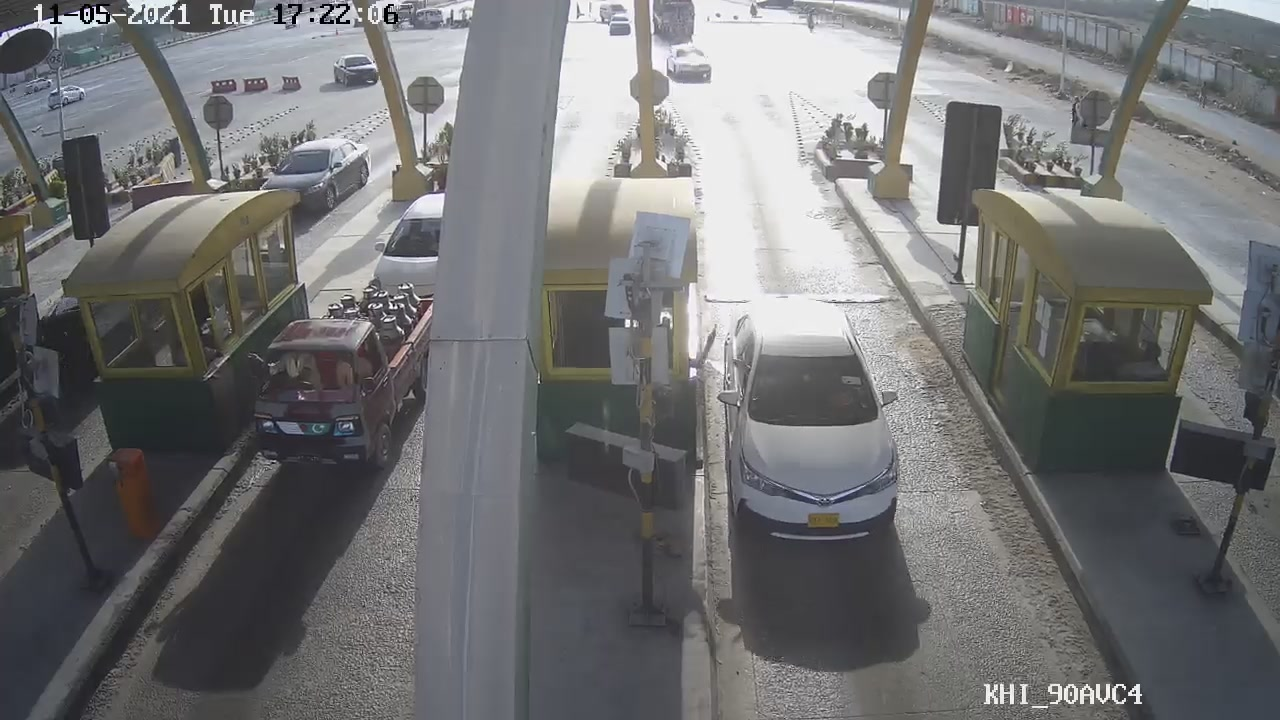F1: (719, 294, 912, 551)
